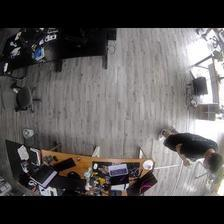normal: (157, 126, 222, 173)
